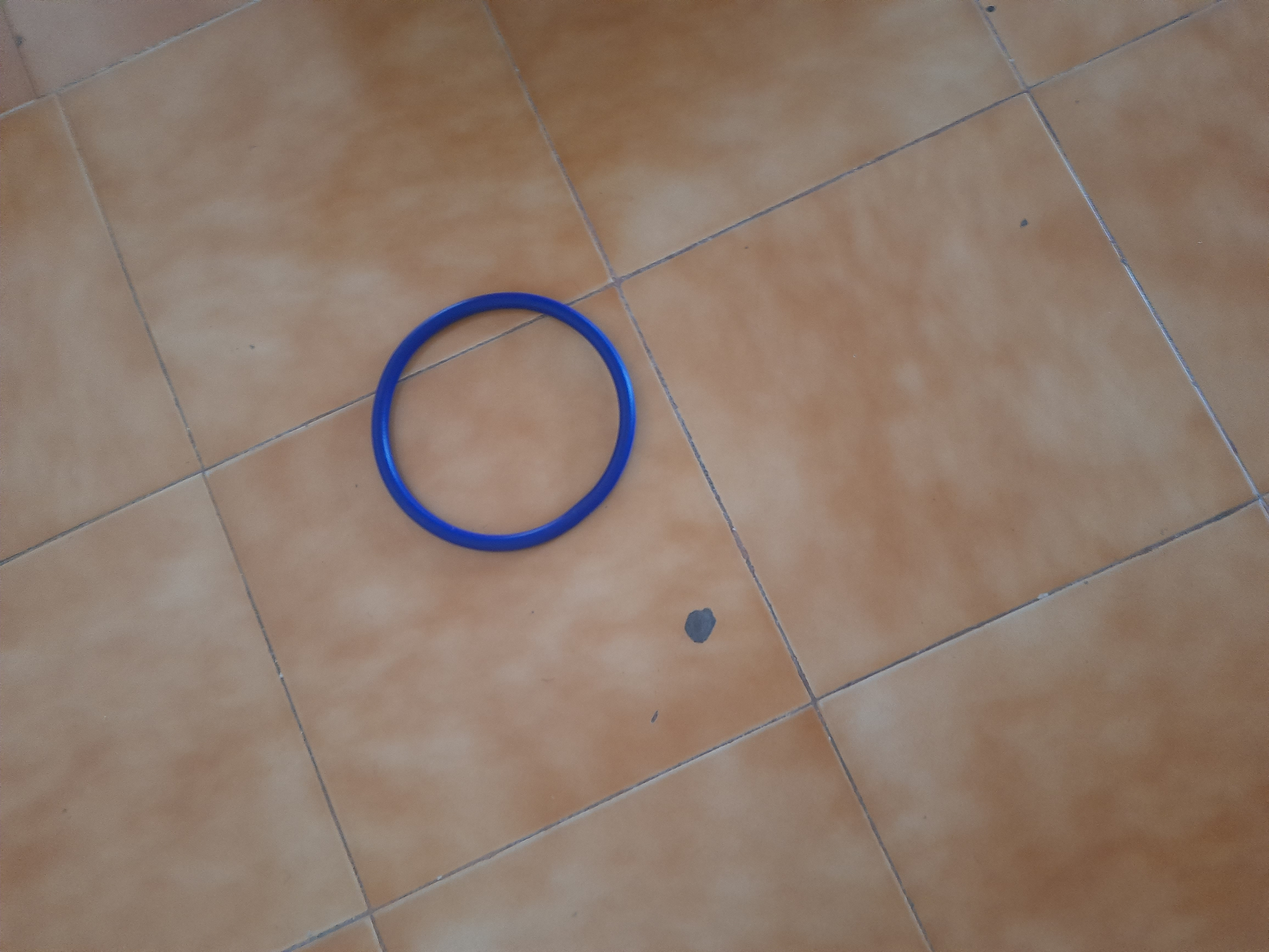Blue ring: (369, 292, 635, 552)
